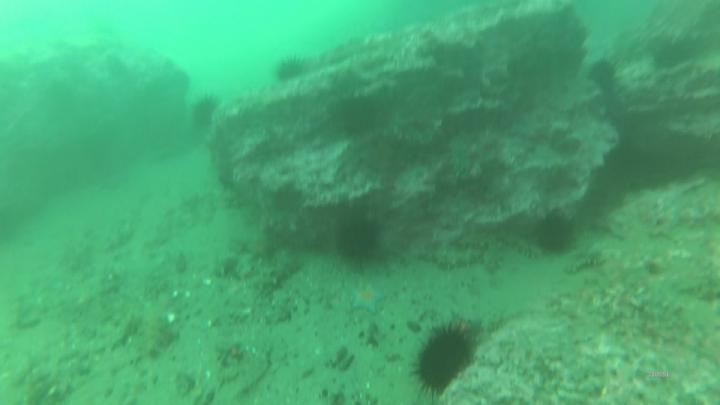echinus: (421, 330, 470, 393), (338, 215, 382, 263), (336, 95, 379, 138), (540, 214, 573, 253), (192, 100, 218, 126), (276, 59, 303, 82), (590, 61, 614, 86)
holothurian: (243, 261, 299, 290), (423, 246, 479, 270), (497, 231, 539, 262), (146, 308, 170, 356)
starfish: (352, 284, 386, 313)
